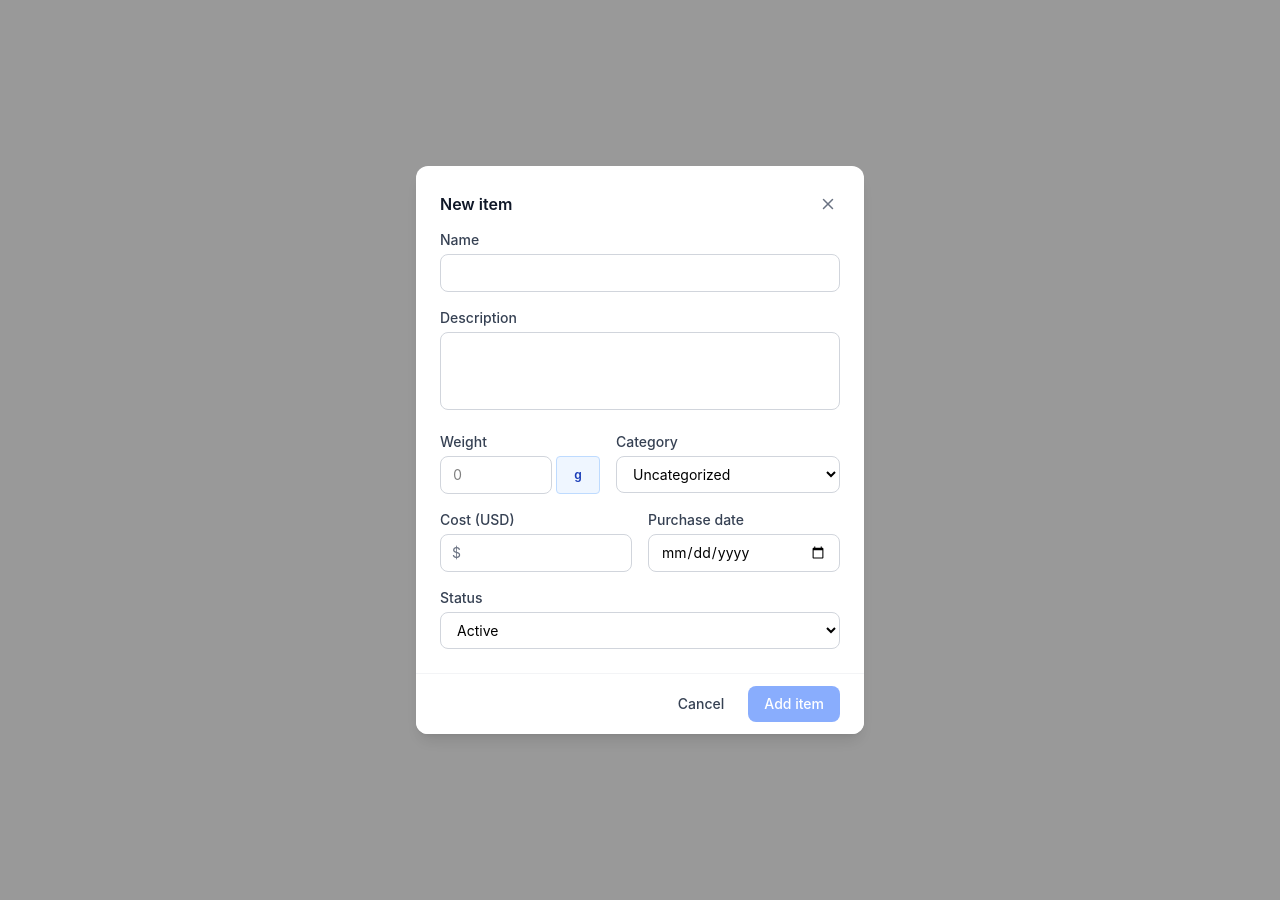
Test: GearItemDialog cost › clears the cost error once the cost is corrected
This screenshot has width=1280, height=900.
In the field labelled "Name": point(640, 273) [440,254,840,292], type "Tent"
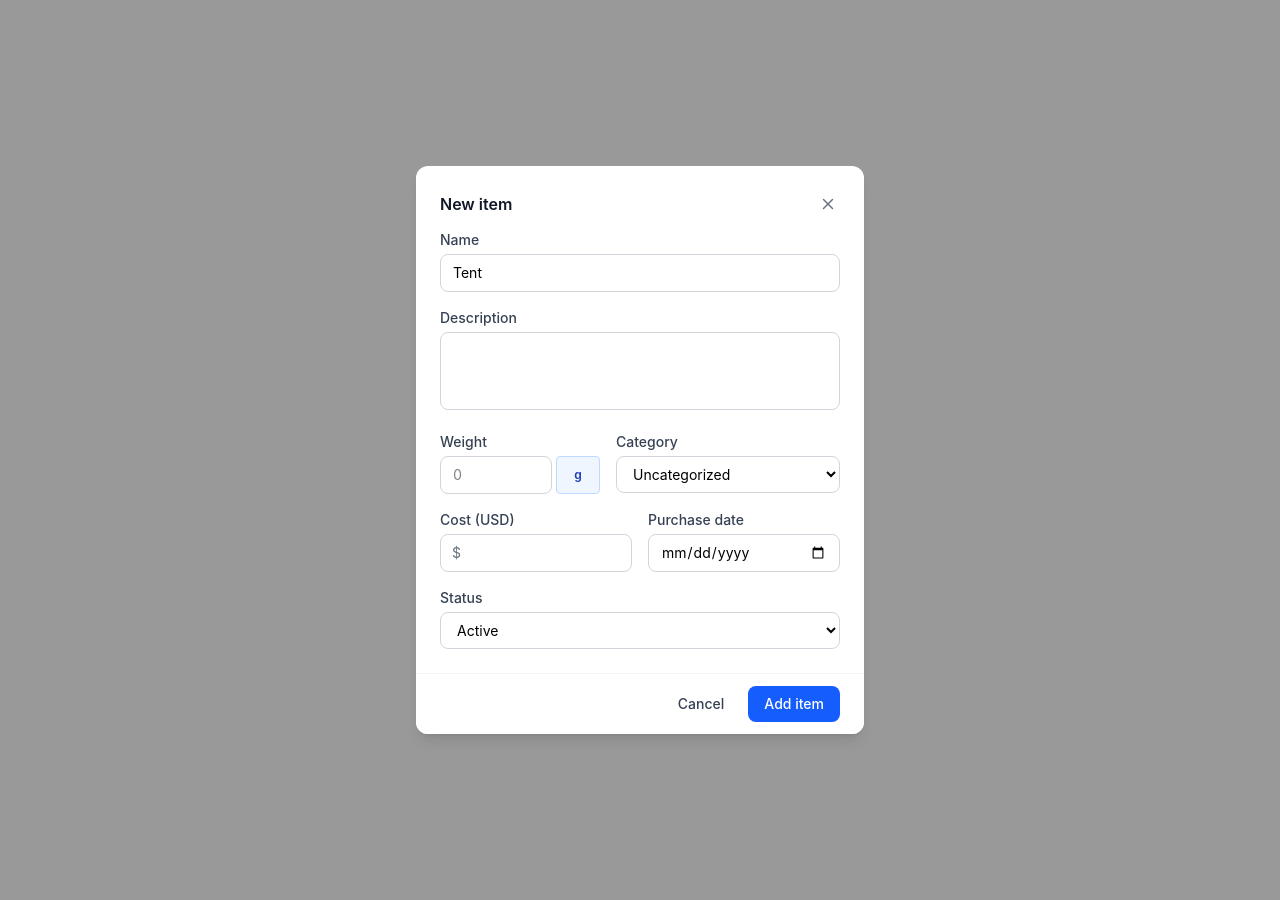
In the number field labelled "Cost (USD)": point(536, 553) [440,534,632,572], type "100000000"
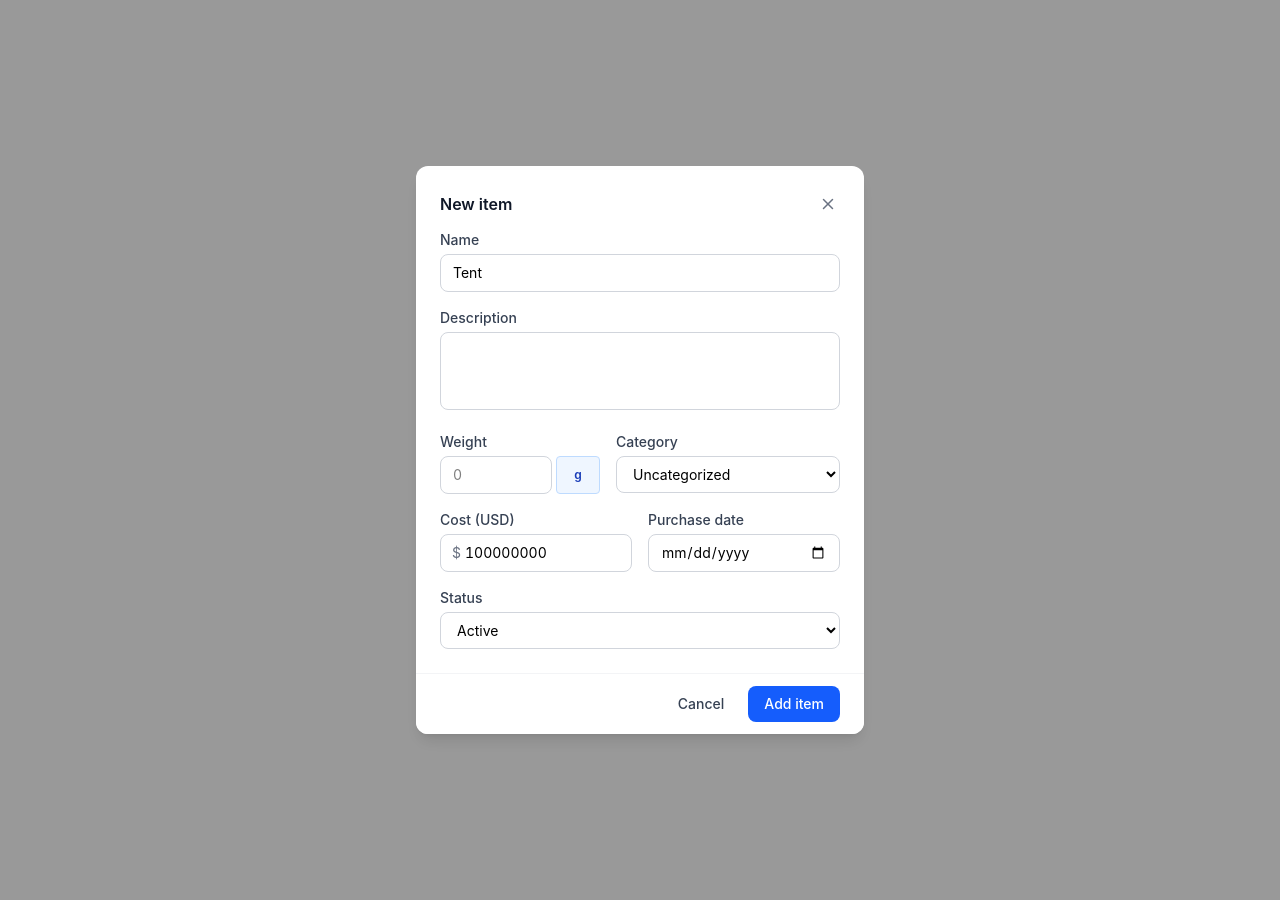
Click the button "Add item": point(794, 704) [748,686,840,722]
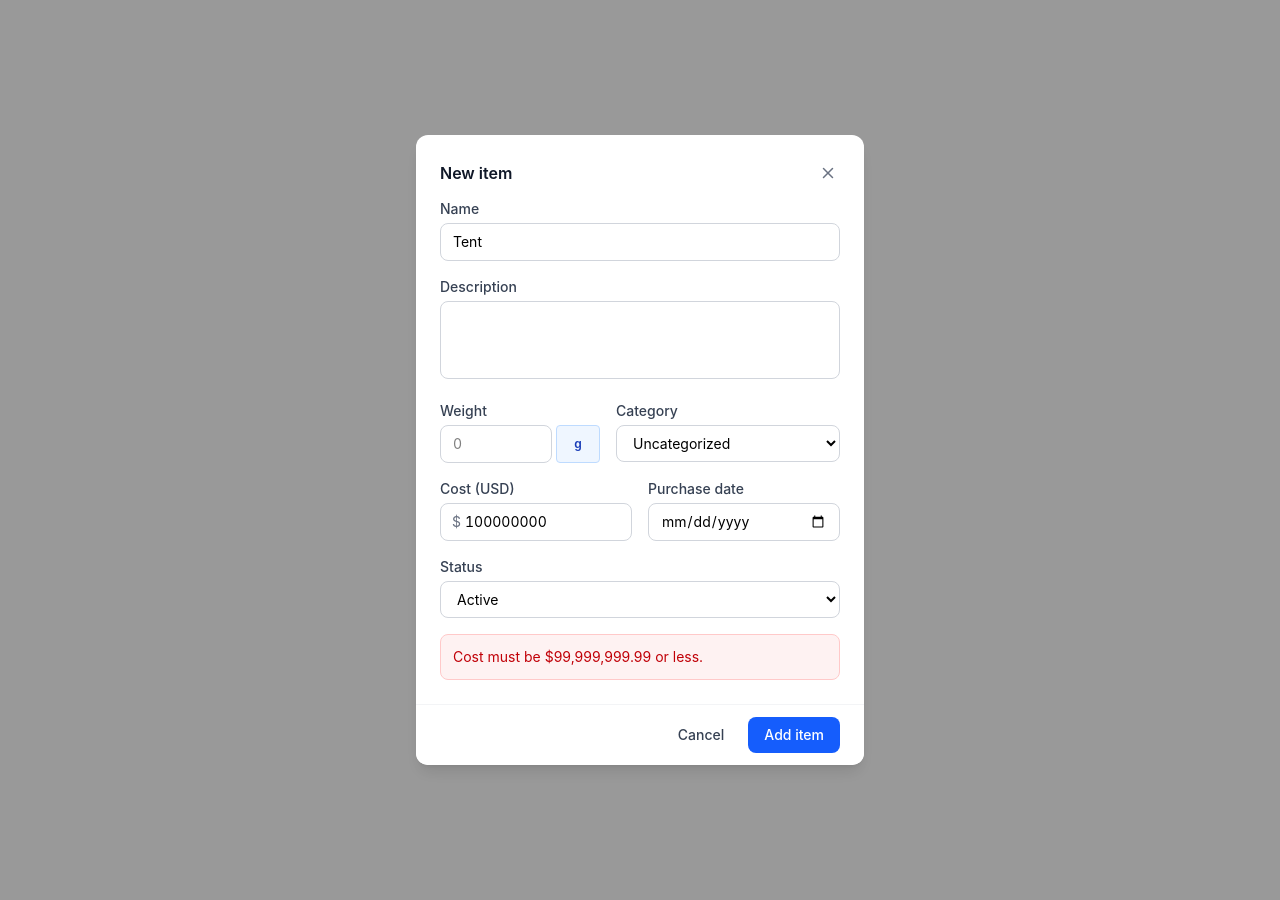
Result: the message "Cost must be $99,999,999.99 or less." is shown at [440,634,840,680]
Replace the text in the number field labelled "Cost (USD)" with "10": point(536, 522) [440,503,632,541]
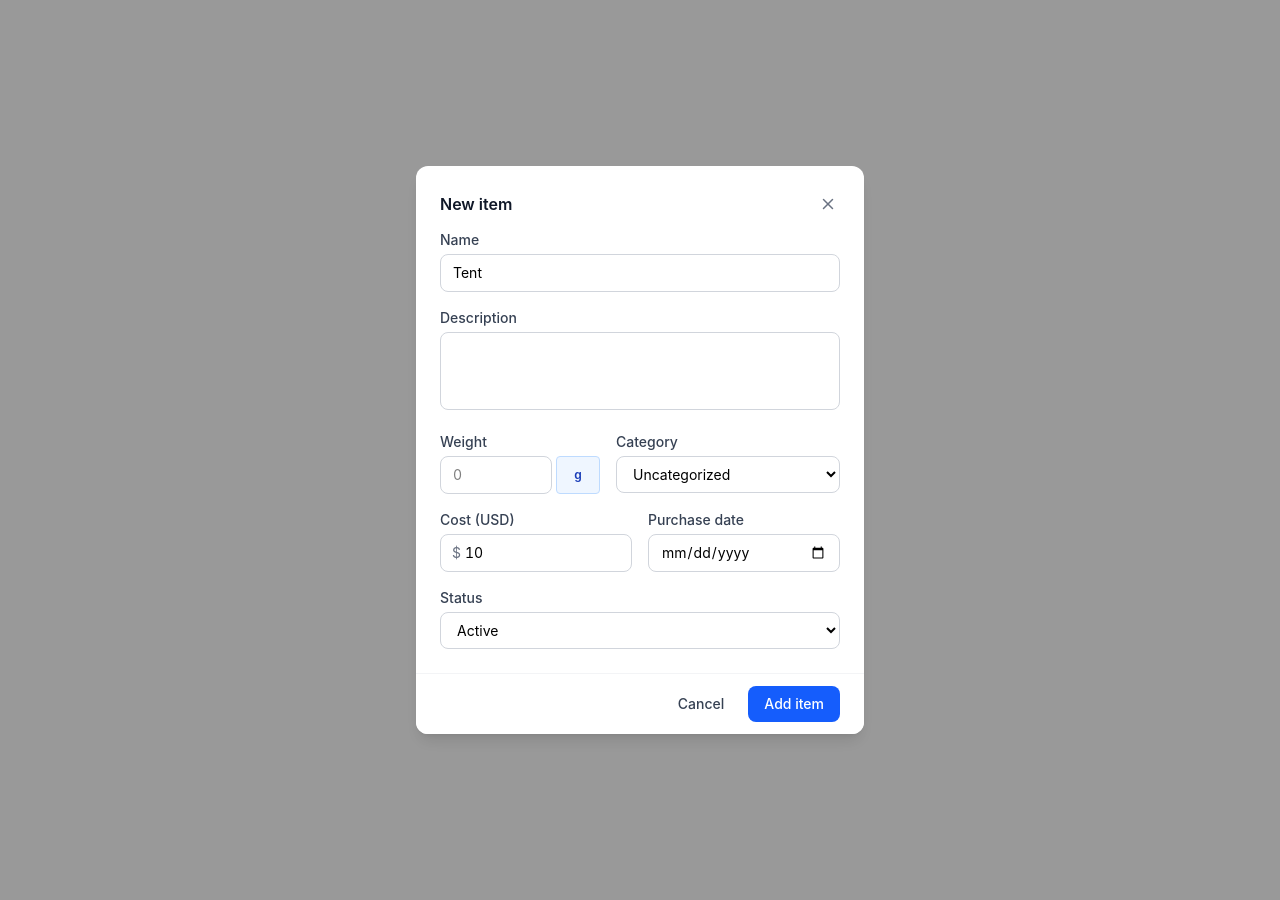
Result: the message "Cost must be $99,999,999.99 or less." is gone
